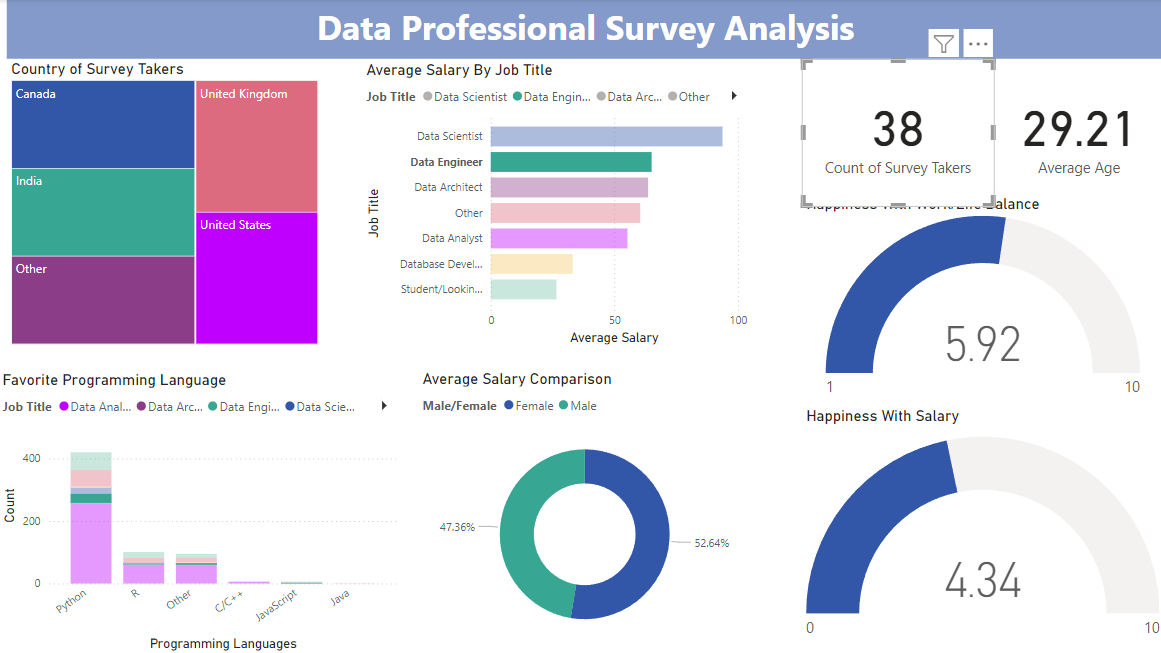

The dashboard page shown, as its layout file describes it:
{"tool":"powerbi","page":{"name":"Page 1","canvas":[1280,720],"ordinal":0},"visuals":[{"type":"textbox","box":[9.6,0,1270.7,65.9],"z":0},{"type":"card","fields":{"Values":["Avg(Data Professional Survey.Q10 - Current Age)"]},"box":[1093.7,65.9,186.6,161.9],"z":1000},{"type":"card","fields":{"Values":["Count(Data Professional Survey.Unique ID)"]},"box":[882.3,65.9,211.3,161.9],"z":2000},{"type":"barChart","title":"Average Salary By Job Title ","fields":{"Category":["Data Professional Survey.Q1 - Which Title Best Fits your Current Role?.1"],"Y":["Avg(Data Professional Survey.Average Salary)"],"Series":["Data Professional Survey.Q1 - Which Title Best Fits your Current Role?.1"]},"box":[399.3,67.2,428.1,317],"z":3000},{"type":"columnChart","title":"Favorite Programming Language","fields":{"Category":["Data Professional Survey.Q5 - Favorite Programming Language.1"],"Y":["CountNonNull(Data Professional Survey.Unique ID)"],"Series":["Data Professional Survey.Q1 - Which Title Best Fits your Current Role?.1"]},"box":[0,407.5,443.2,312.9],"z":4000},{"type":"treemap","title":"Country of Survey Takers","fields":{"Values":["Count(Data Professional Survey.Q11 - Which Country do you live in?.1)"],"Group":["Data Professional Survey.Q11 - Which Country do you live in?.1"]},"box":[9.6,65.9,347.2,318.4],"z":5000},{"type":"gauge","title":"Happiness With Work/Life Balance","fields":{"Y":["Avg(Data Professional Survey.Q6 - How Happy are you in your Current Position with the following? (Work/Life Balance))"],"MinValue":["Min(Data Professional Survey.Q6 - How Happy are you in your Current Position with the following? (Work/Life Balance))"],"MaxValue":["Max(Data Professional Survey.Q6 - How Happy are you in your Current Position with the following? (Work/Life Balance))"]},"box":[882.3,214.1,397.9,233.3],"z":6000},{"type":"gauge","title":"Happiness With Salary","fields":{"Y":["Avg(Data Professional Survey.Q6 - How Happy are you in your Current Position with the following? (Salary))"],"MinValue":["Min(Data Professional Survey.Q6 - How Happy are you in your Current Position with the following? (Salary))"],"MaxValue":["Max(Data Professional Survey.Q6 - How Happy are you in your Current Position with the following? (Salary))"]},"box":[882.3,447.3,397.9,273.1],"z":7000},{"type":"donutChart","title":"Average Salary Comparison","fields":{"Category":["Data Professional Survey.Q9 - Male/Female?"],"Y":["Avg(Data Professional Survey.Average Salary)"]},"box":[461.1,406.2,366.4,314.2],"z":8000}]}

Visuals, with their boxes in screenshot pixels (x1, y1, x2, y2), scaled from the page's 1280x720 canvas onto the 1161x653 screenshot:
textbox: 9/0/1160/60
card - Avg(Data Professional Survey.Q10 - Current Age): 992/60/1160/207
card - Count(Data Professional Survey.Unique ID): 800/60/992/207
"Average Salary By Job Title " barChart: 362/61/750/348
"Favorite Programming Language" columnChart: 0/370/402/652
"Country of Survey Takers" treemap: 9/60/324/349
"Happiness With Work/Life Balance" gauge: 800/194/1160/406
"Happiness With Salary" gauge: 800/406/1160/652
"Average Salary Comparison" donutChart: 418/368/751/652
